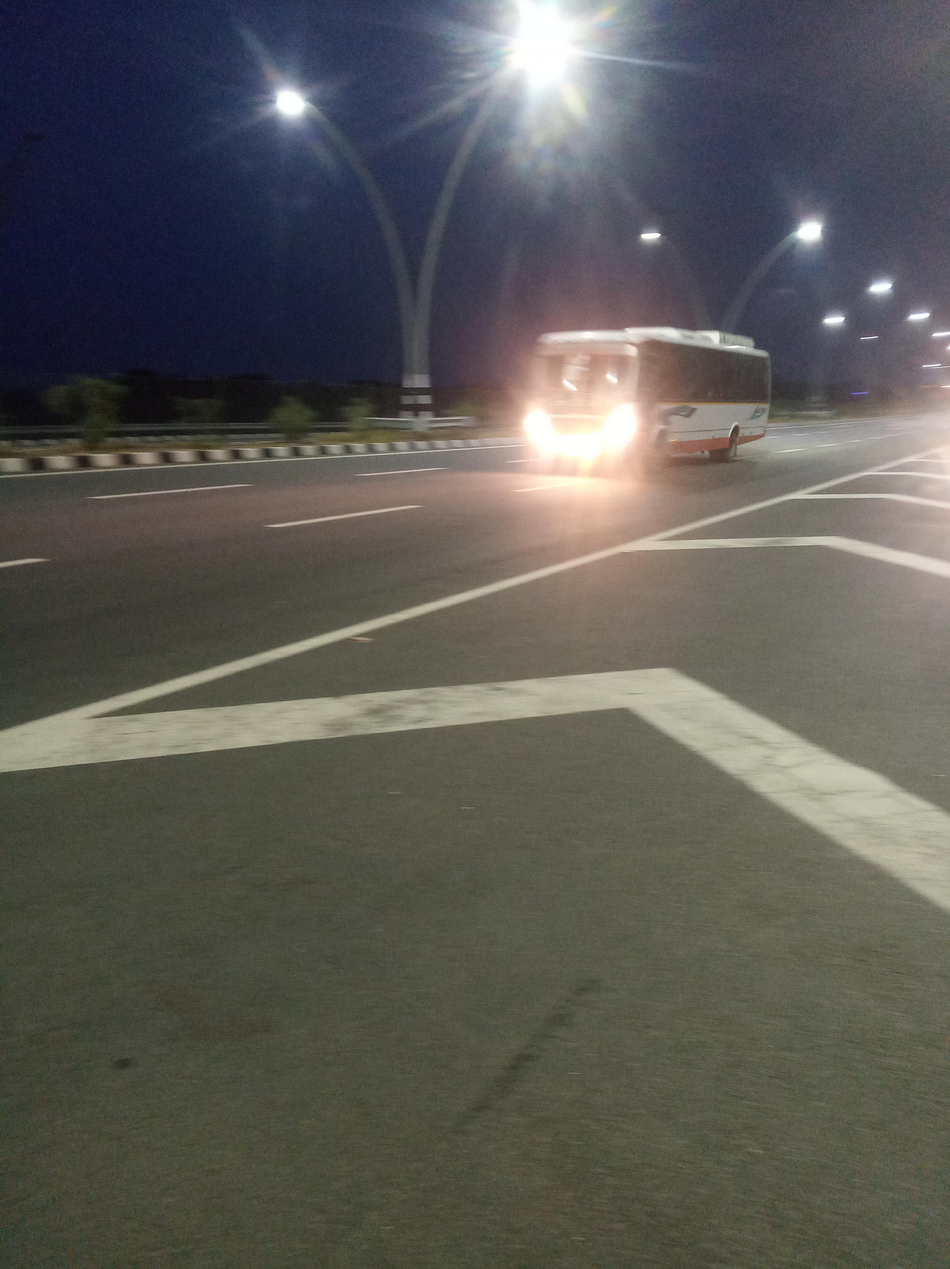Non-emergency: (532, 315, 784, 519)
